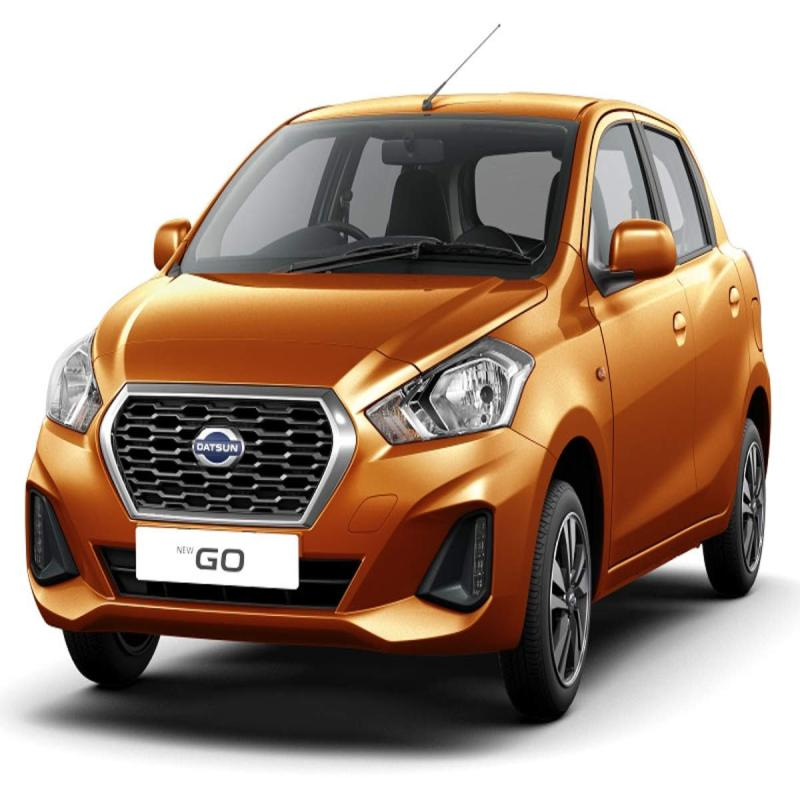car: (34, 55, 761, 724)
